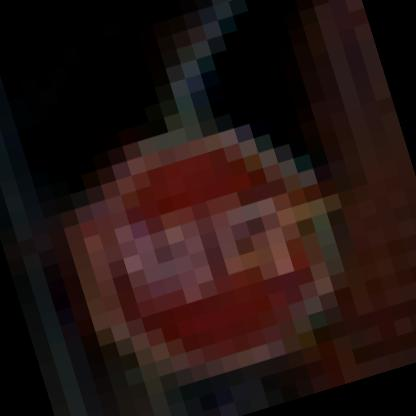stop: (37, 84, 402, 415)
